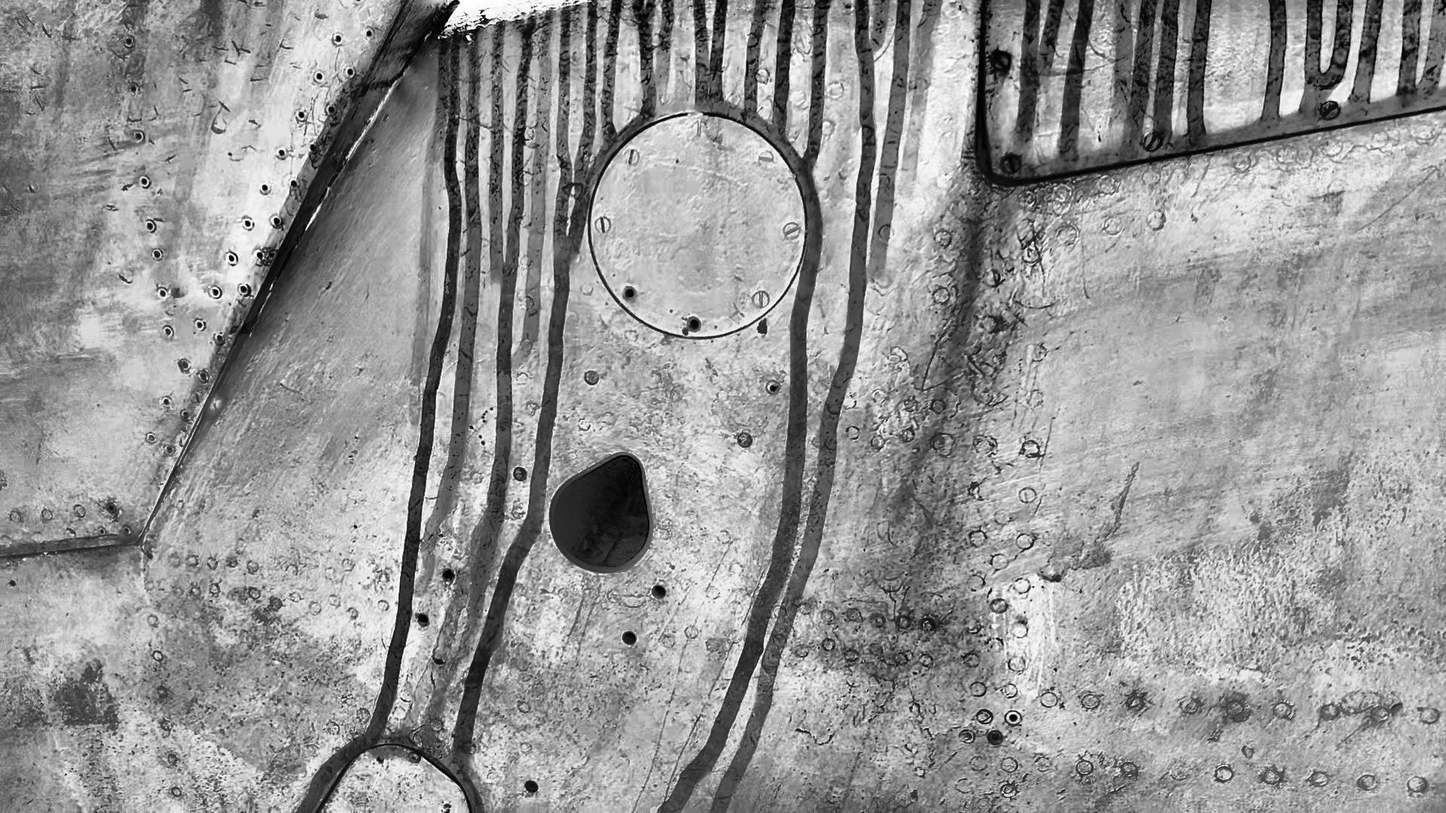missing-head: (623, 286, 635, 303), (687, 318, 702, 331), (766, 380, 779, 395), (238, 282, 250, 297), (161, 325, 174, 338), (242, 217, 254, 230), (210, 286, 222, 299), (140, 175, 152, 187), (1007, 711, 1017, 725), (990, 732, 1002, 743), (331, 34, 343, 45), (314, 71, 325, 83), (325, 103, 336, 115), (225, 253, 236, 265), (271, 214, 281, 227), (124, 34, 134, 47), (145, 219, 155, 232), (128, 83, 139, 94), (345, 67, 355, 79), (134, 130, 144, 141), (107, 501, 115, 514), (196, 319, 205, 330), (162, 397, 171, 408), (153, 249, 162, 259), (157, 288, 166, 298), (289, 179, 298, 188), (309, 142, 316, 153), (279, 147, 286, 158), (365, 29, 372, 39), (297, 110, 304, 120), (255, 252, 264, 259)
